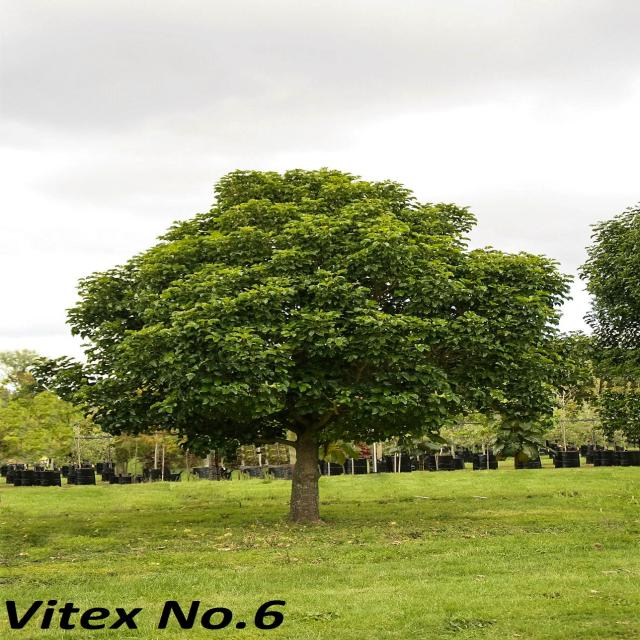Vitex lucens: (5, 161, 572, 526)
